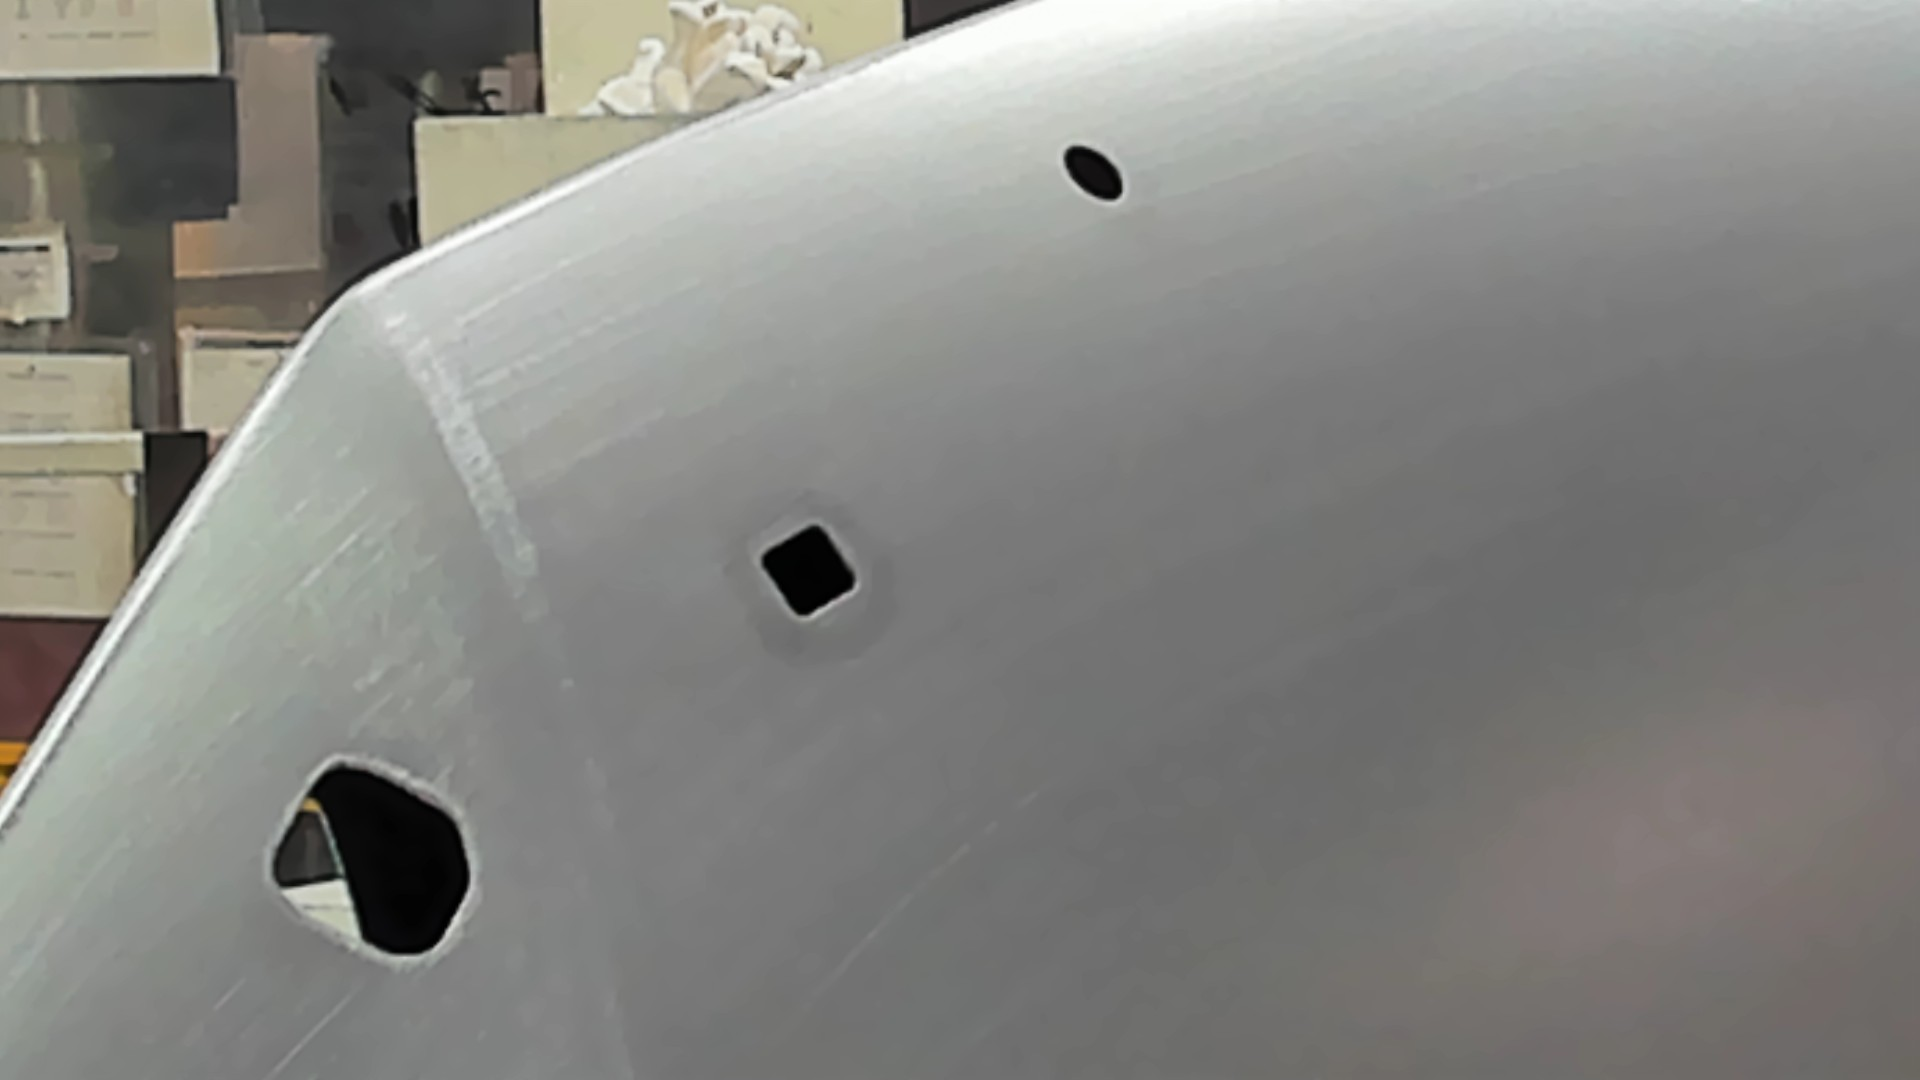capo: (869, 211, 1920, 1080)
chico: (1058, 141, 1127, 204)
grande: (257, 740, 483, 982)
mediano: (748, 512, 866, 626)
